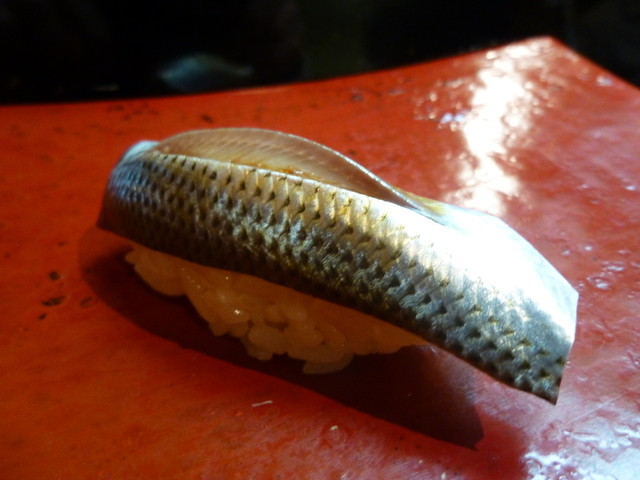spotted-shad: (95, 123, 581, 417)
